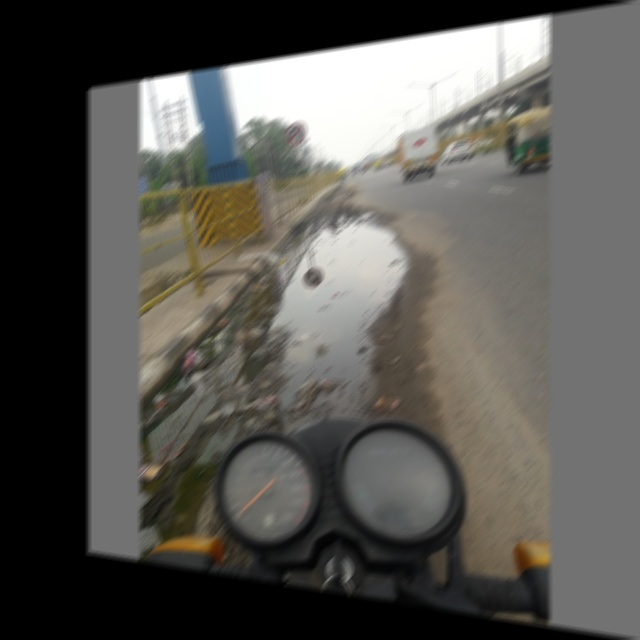U_Turn_Prohibited: (284, 119, 307, 148)
